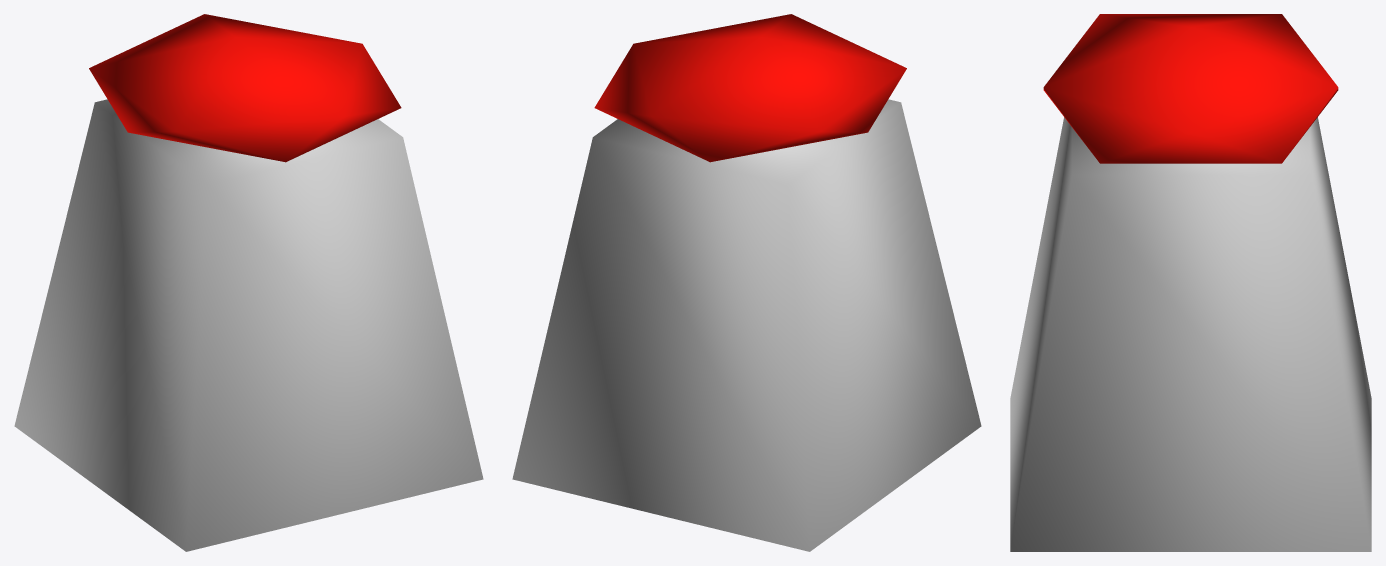
File: Button.fbx
The picture shows the model from 3 angles, left to right: view 1: azimuth 30°, elevation 25°; view 2: azimuth 150°, elevation 25°; view 3: azimuth 270°, elevation 25°; orthographic projection. The views are drawn at different scales.
Visible parts, largest first — view 1: Cube.049, Icosphere; view 2: Cube.049, Icosphere; view 3: Cube.049, Icosphere.
Part boxes in pixels (x1,y1,x2,y2): Cube.049: [14, 99, 483, 551]; Icosphere: [89, 14, 401, 162]; Cube.049: [512, 99, 981, 551]; Icosphere: [594, 14, 906, 162]; Cube.049: [1010, 117, 1371, 551]; Icosphere: [1043, 14, 1338, 163].
Size of the model in its own units: 22.44 by 30.2 by 22.44.
